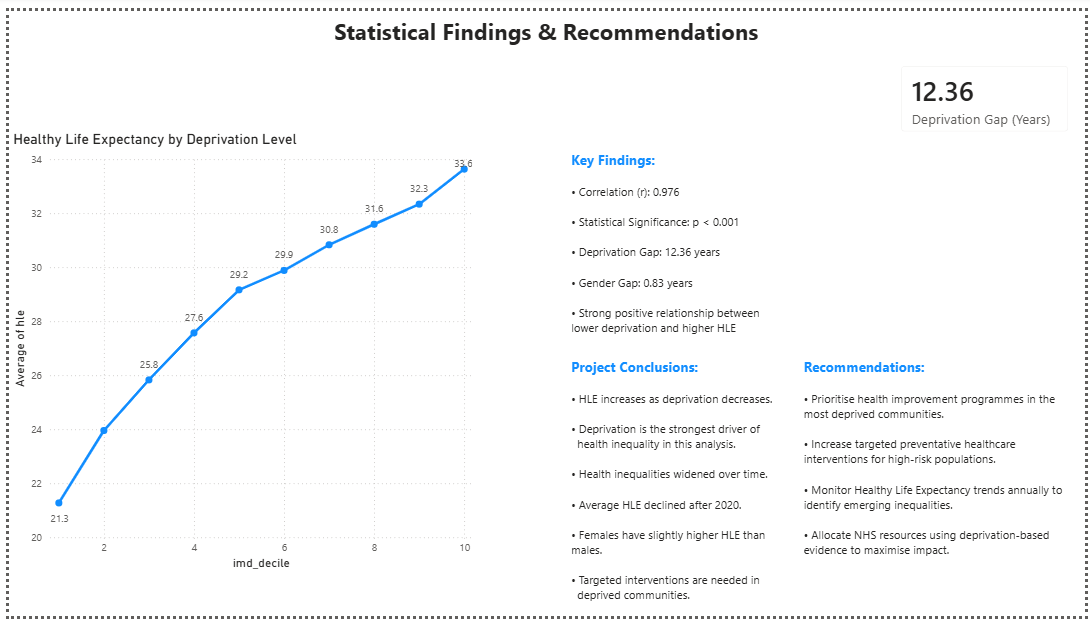

This screenshot's page, from the dashboard's own definition file:
{"tool":"powerbi","page":{"name":"Deprivation & Statistical Insights","canvas":[1280,720],"ordinal":3},"visuals":[{"type":"lineChart","title":"Healthy Life Expectancy by Deprivation Level","fields":{"Category":["imd_hle.imd_decile"],"Y":["Avg(imd_hle.hle)"]},"box":[0,143.4,556.6,526.4],"z":0},{"type":"textbox","box":[664.3,160.7,614.3,232.1],"z":1000},{"type":"textbox","box":[664.3,407.1,276.8,314.3],"z":2000},{"type":"cardVisual","fields":{"Data":["Sum(summary.Value)"]},"box":[1044.6,48.2,233.9,112.5],"z":3000},{"type":"textbox","box":[0,0,1279.2,49.1],"z":4000},{"type":"textbox","box":[941.1,407.1,337.5,312.5],"z":4001}]}

Visuals, with their boxes in screenshot pixels (x1, y1, x2, y2), scaled from the page's 1280x720 canvas onto the 1090x619 screenshot:
"Healthy Life Expectancy by Deprivation Level" lineChart: locate(0, 123, 474, 576)
textbox: locate(566, 138, 1089, 338)
textbox: locate(566, 350, 801, 618)
cardVisual - Sum(summary.Value): locate(890, 41, 1089, 138)
textbox: locate(0, 0, 1089, 42)
textbox: locate(801, 350, 1089, 618)
